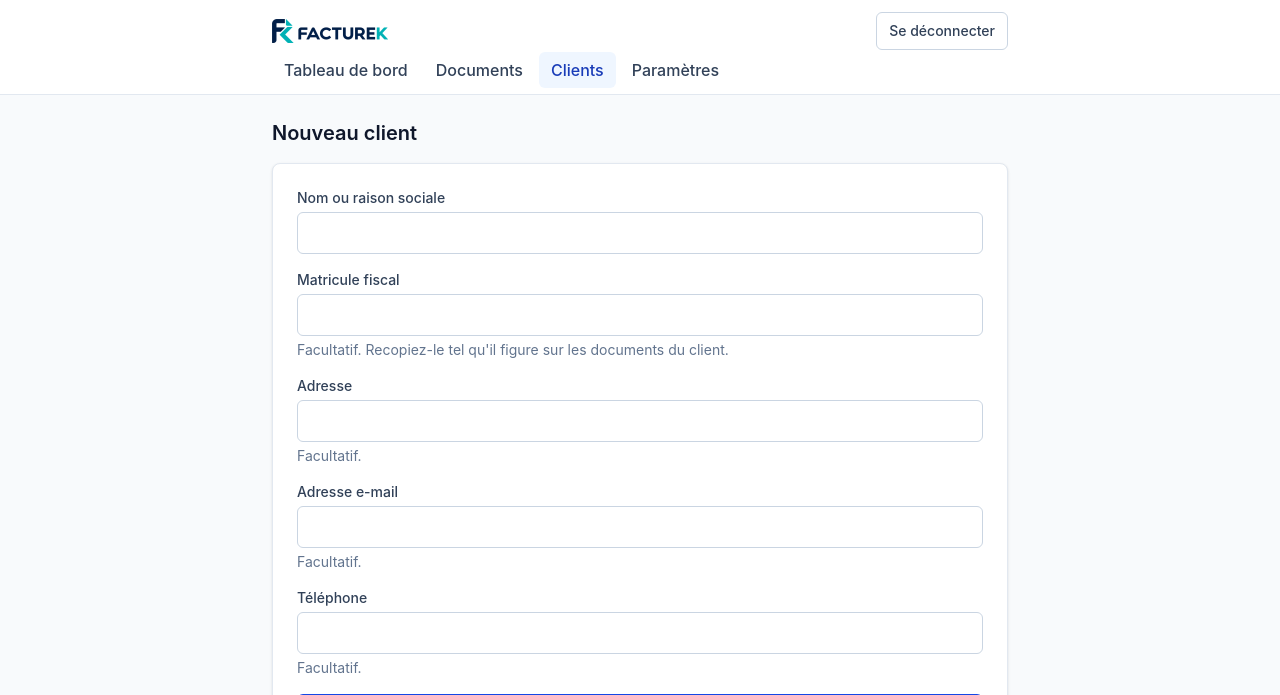
Scenario: creating a client › stays on the form and shows a French message when the database refuses
In the field labelled "Nom ou raison sociale": (640, 233) [297,212,983,254], type "Garage Ben Salah"
(page scrolled)
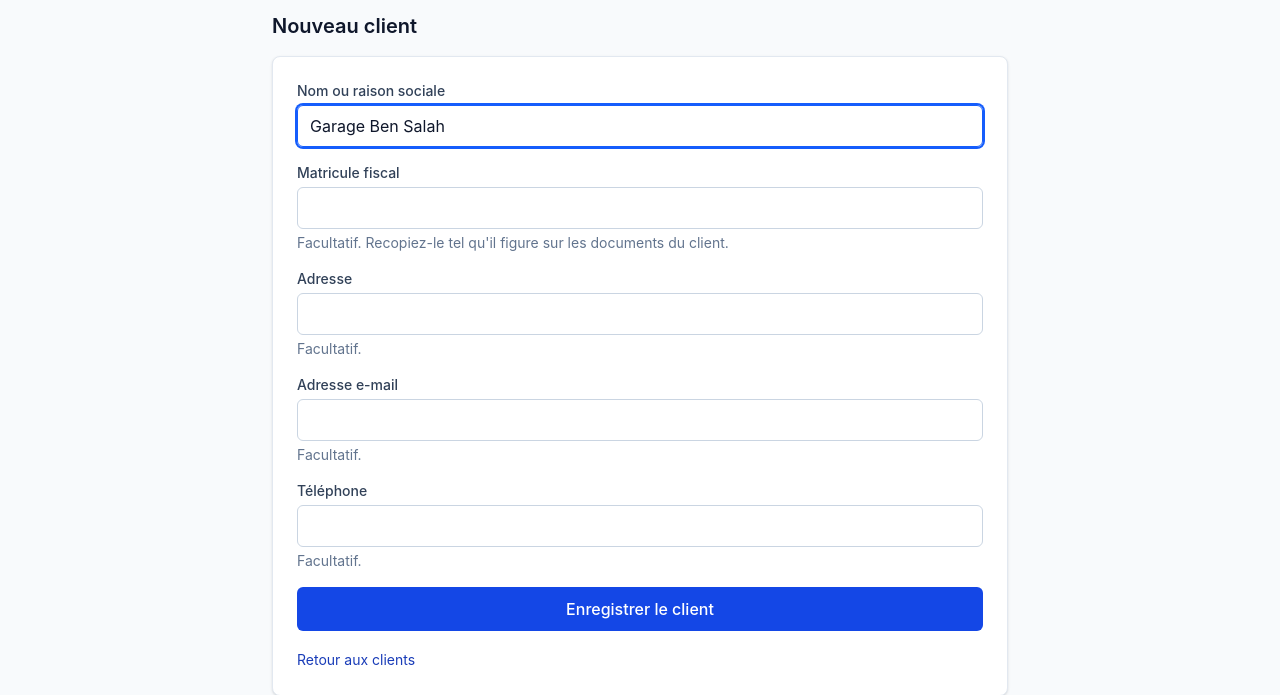
Click the button "Enregistrer le client": (640, 609) [297,587,983,631]
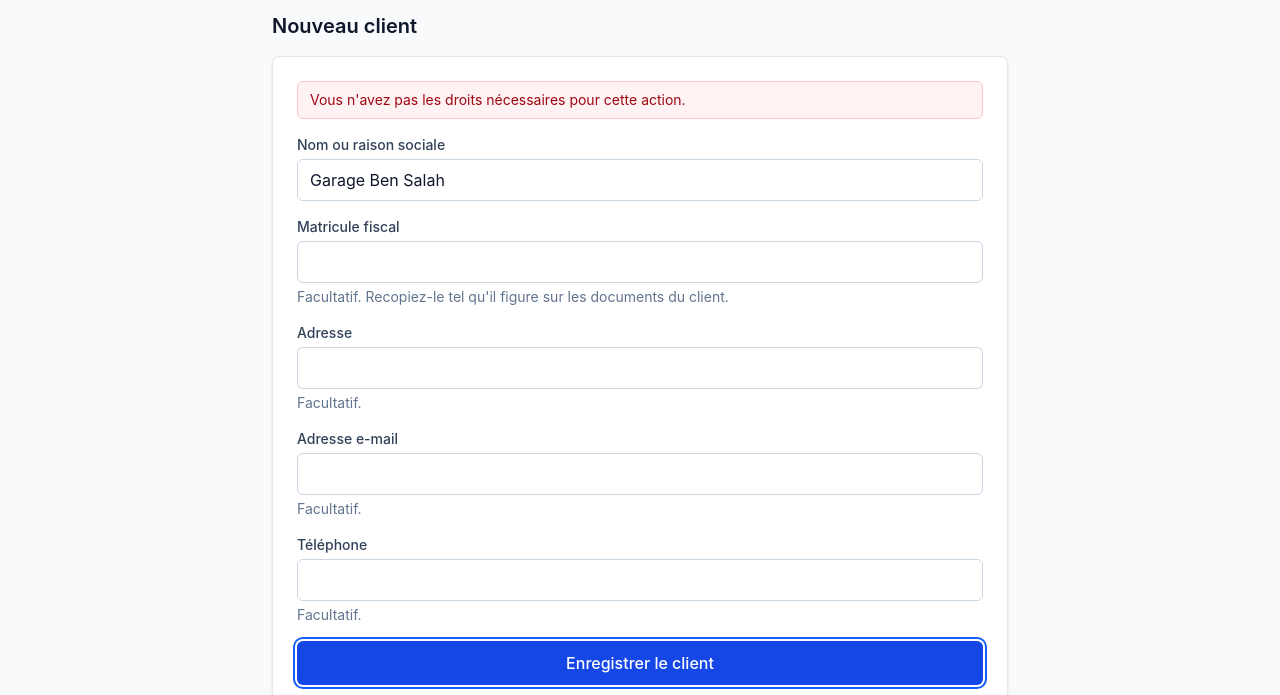
Expected: the message reads "Vous n'avez pas les droits nécessaires pour cette action.", [310,91,686,108]
